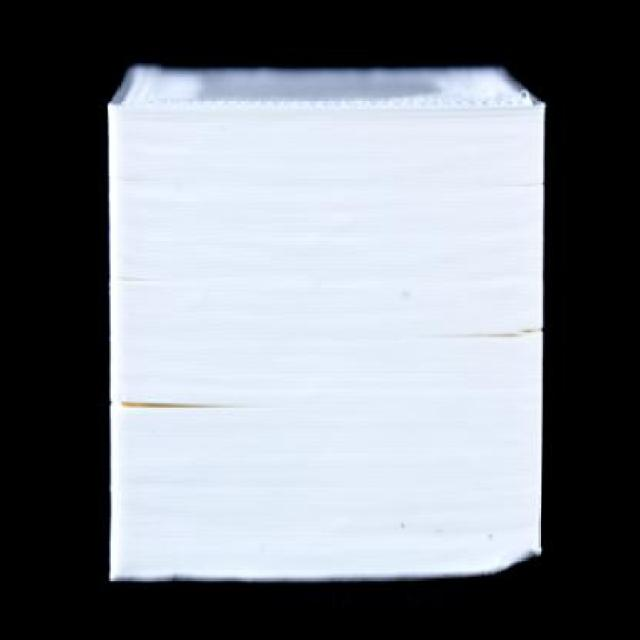cracks: (89, 367, 298, 442), (393, 283, 562, 375), (99, 164, 190, 308)
